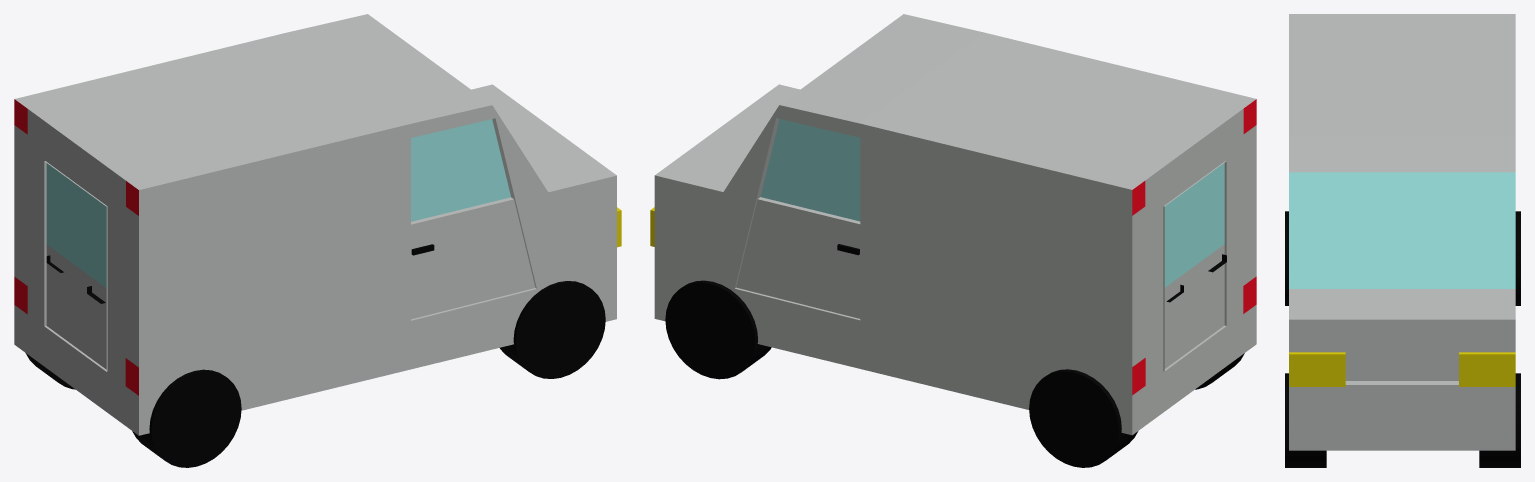
File: van.fbx
3 renders of one model, left to right at view 1: azimuth 30°, elevation 25°; view 2: azimuth 150°, elevation 25°; view 3: azimuth 270°, elevation 25°, orthographic. The views are drawn at different scales.
Visible parts, largest first — view 1: Cube, Cube.001; view 2: Cube, Cube.002; view 3: Cube, Cube.002, Cube.001.
Boxes of the visible parts, bbox=[...] form: Cube: bbox=[14, 14, 621, 435]; Cube.001: bbox=[132, 281, 605, 467]; Cube: bbox=[650, 14, 1256, 435]; Cube.002: bbox=[665, 280, 1138, 467]; Cube: bbox=[1288, 14, 1516, 450]; Cube.002: bbox=[1479, 211, 1520, 467]; Cube.001: bbox=[1285, 211, 1326, 467].
Size of the model in its own units: 709 by 402 by 327.
